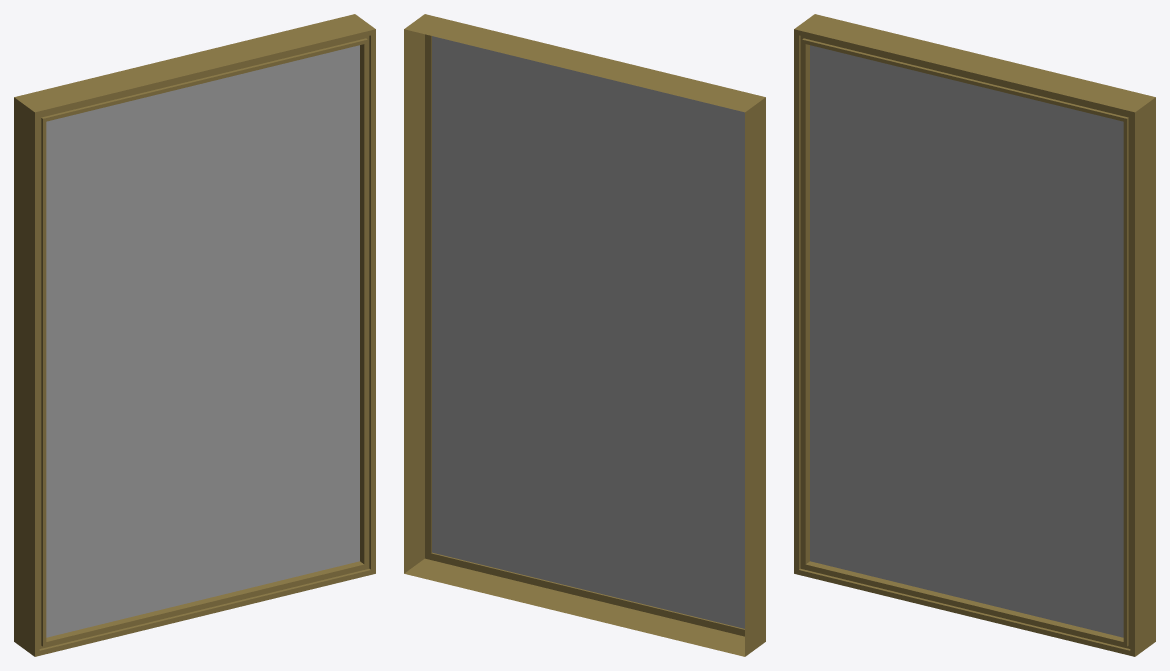
Rendered from Marco_Vertical.fbx.
3 renders of one model, left to right at view 1: azimuth 30°, elevation 25°; view 2: azimuth 150°, elevation 25°; view 3: azimuth 330°, elevation 25°, orthographic.
Parts seen in each view (by area): view 1: MarcoVertical; view 2: MarcoVertical; view 3: MarcoVertical.
Part boxes in pixels (left/top/right/bottom): MarcoVertical: left=14, top=14, right=375, bottom=656; MarcoVertical: left=404, top=14, right=765, bottom=656; MarcoVertical: left=794, top=14, right=1155, bottom=656.
Bounding box in the file's own units: 2.16 × 3.29 × 0.2279.
